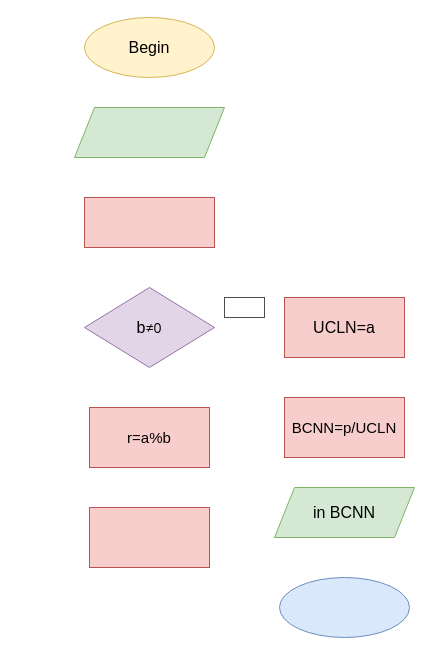
Some shapes in this 432 by 655 pixel diagram are drawn without their labels. The shapes that lost their labels are listed below. From the top down, each one's centre as x and y in pixels, then its label:
At pixel 149 132: "Nhập a,b".
At pixel 149 222: "p=a*x".
At pixel 149 537: "a=b;b=r".
At pixel 344 607: "END".
